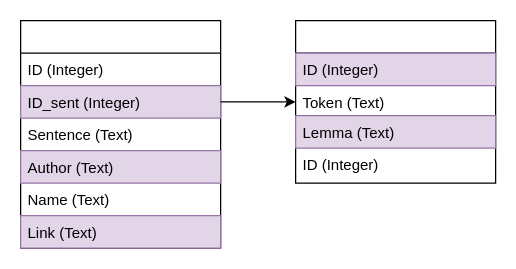
This 516x269 diagram has some shape labels left out. The box of each missing label's shape, as (x1, y1, x2, y2) in pixels:
Sentences: (19, 19, 221, 248)
Words: (294, 19, 496, 183)
